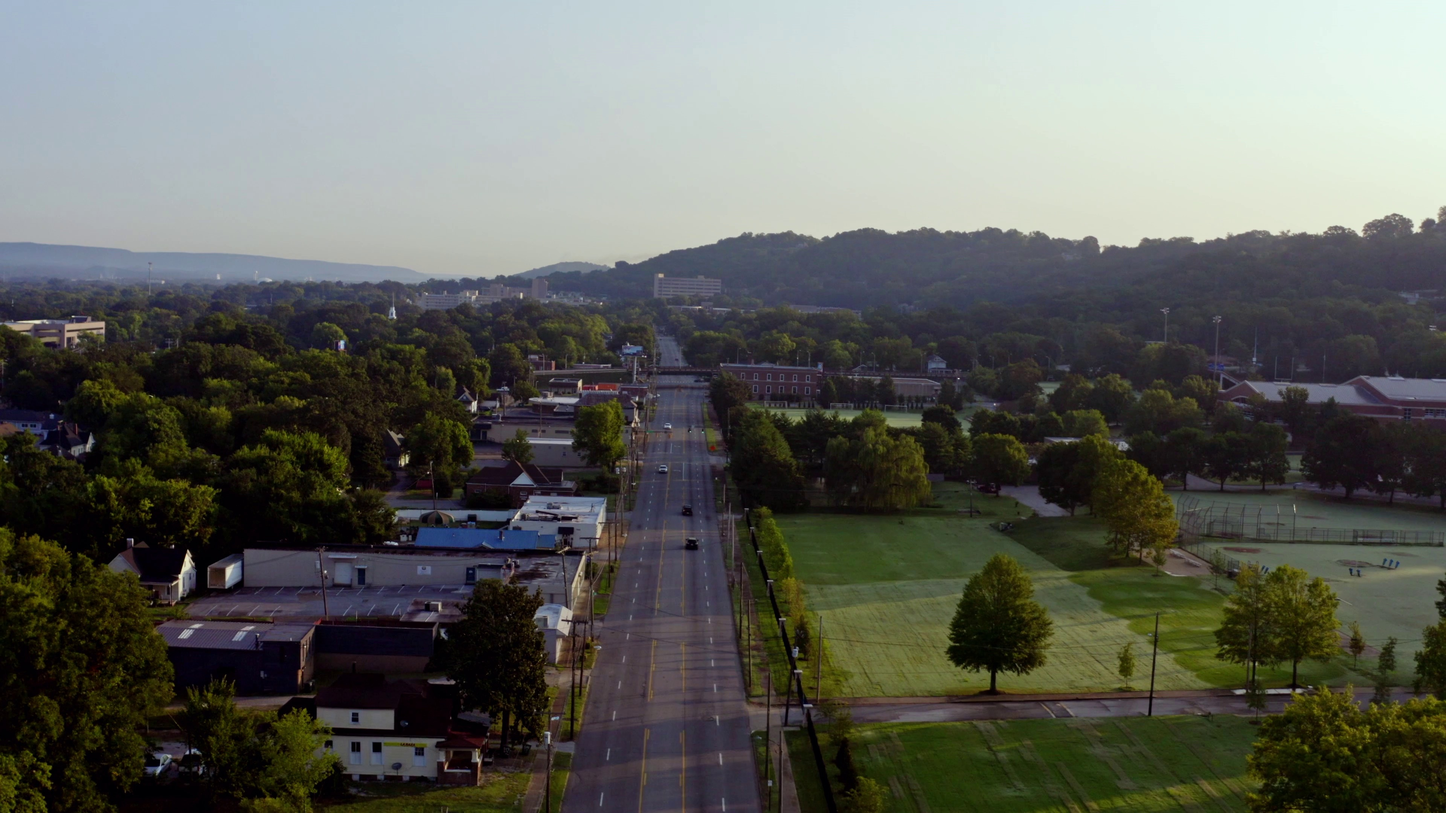Vehicle: (179, 748, 210, 778), (138, 754, 173, 780), (685, 536, 699, 550), (681, 505, 693, 516), (659, 465, 668, 473), (663, 423, 671, 429), (697, 380, 702, 381)
